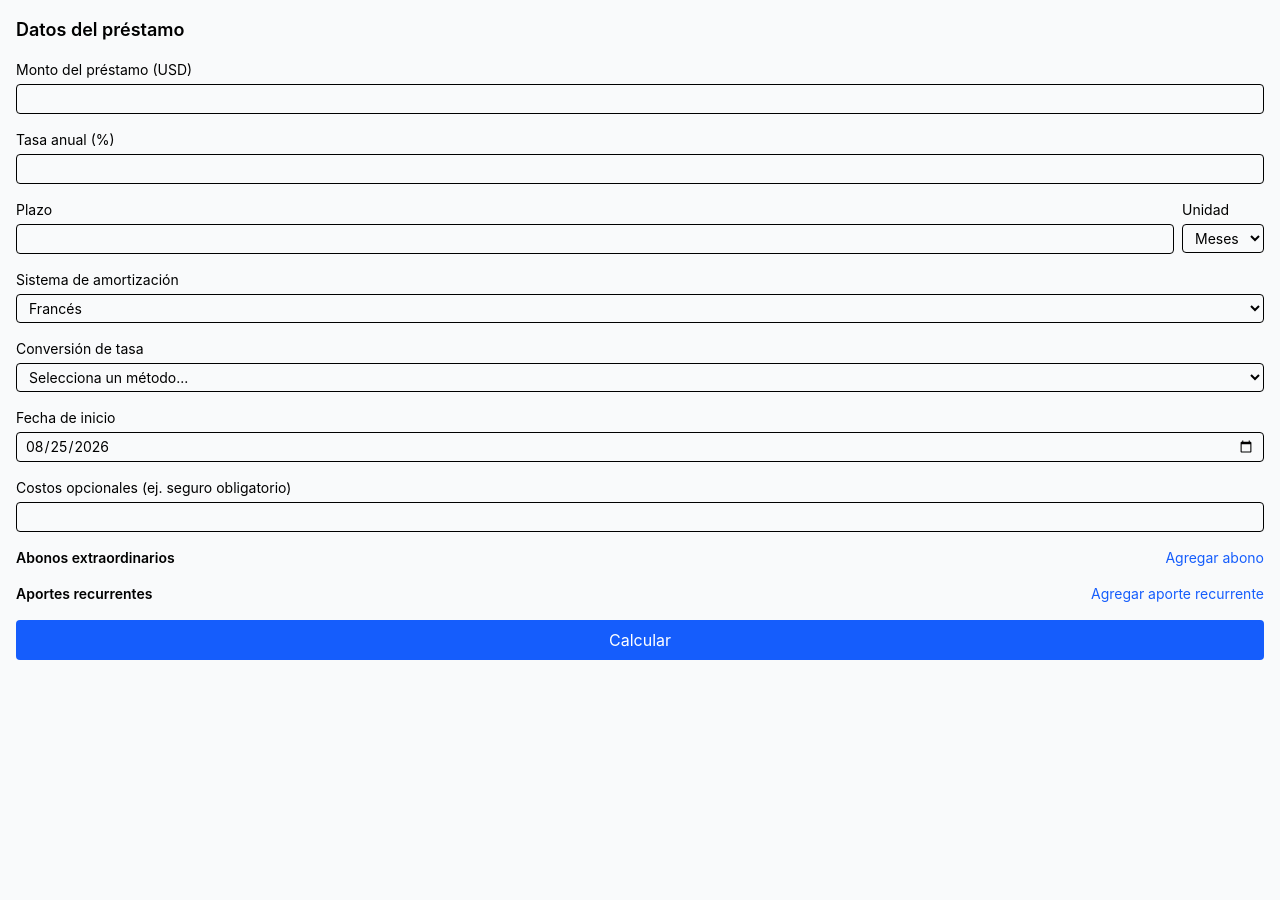
Test case: LoanForm › debe mostrar el selector de estrategia cuando hay al menos un aporte recurrente (sin abonos únicos)
Click the button "Agregar aporte recurrente" at point(1178, 594), box [1091,584,1264,604]
(page scrolled)
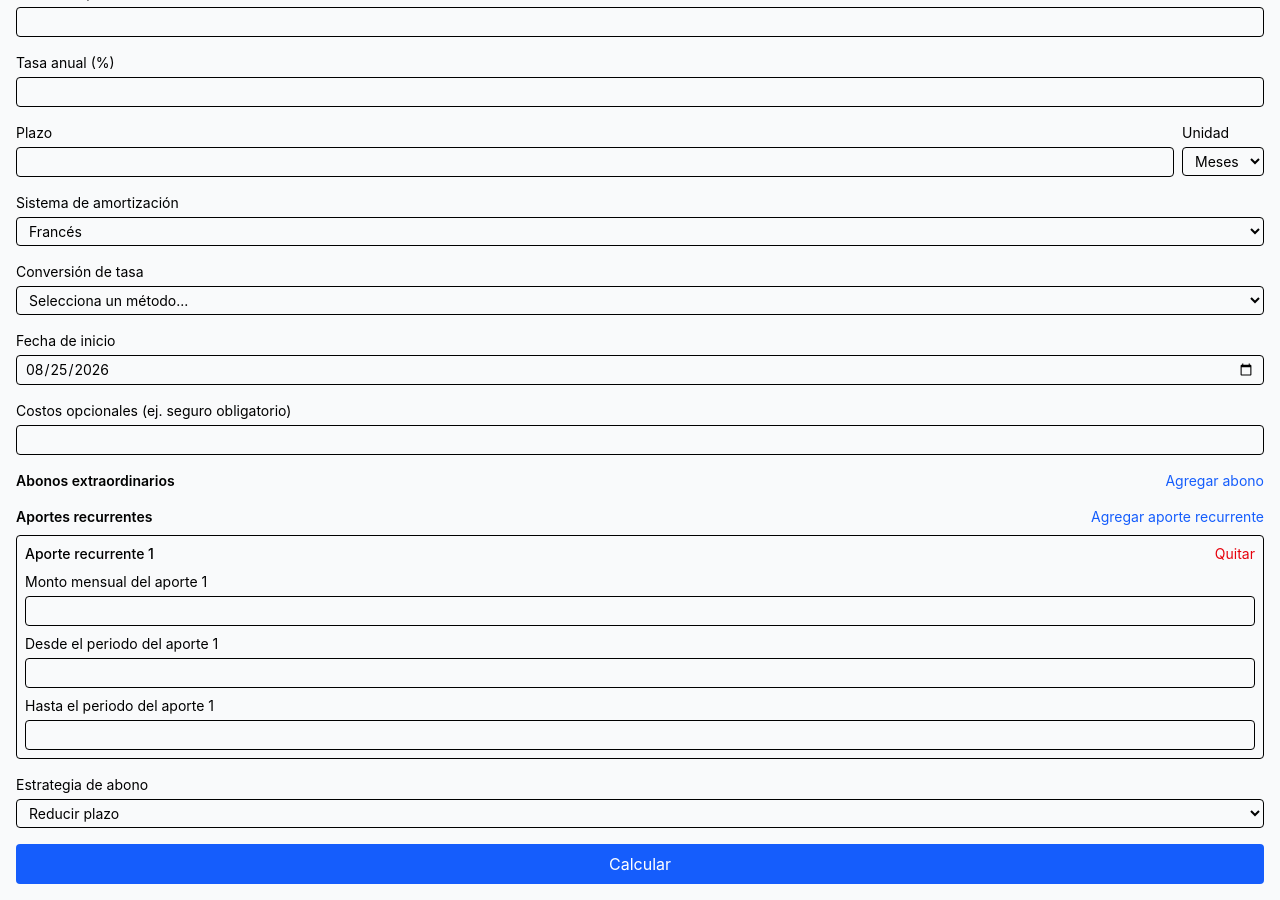
Expected: the dropdown labelled "Estrategia de abono" is shown, [16,799,1264,828]
